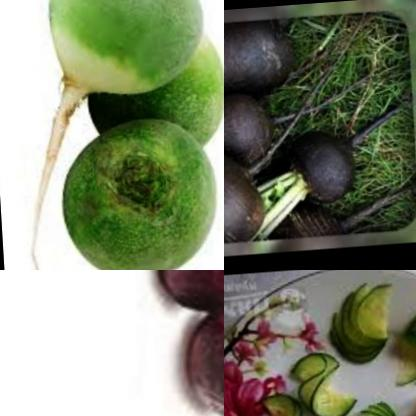beet: (180, 302, 224, 416), (147, 270, 224, 328)
cucumber: (321, 285, 399, 382), (290, 346, 351, 416), (244, 374, 319, 416), (398, 307, 416, 394)
redka: (50, 116, 220, 270), (37, 0, 209, 116), (77, 36, 223, 159), (279, 126, 360, 209), (224, 20, 298, 101), (224, 162, 272, 254), (224, 100, 268, 174), (281, 208, 353, 248)
